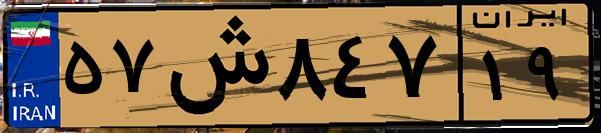1: (475, 38, 525, 113)
4: (330, 28, 385, 110)
5: (57, 26, 110, 100)
7: (385, 28, 445, 110), (110, 28, 158, 98)
8: (270, 28, 330, 110)
9: (525, 38, 570, 115)
ش: (158, 12, 270, 120)
